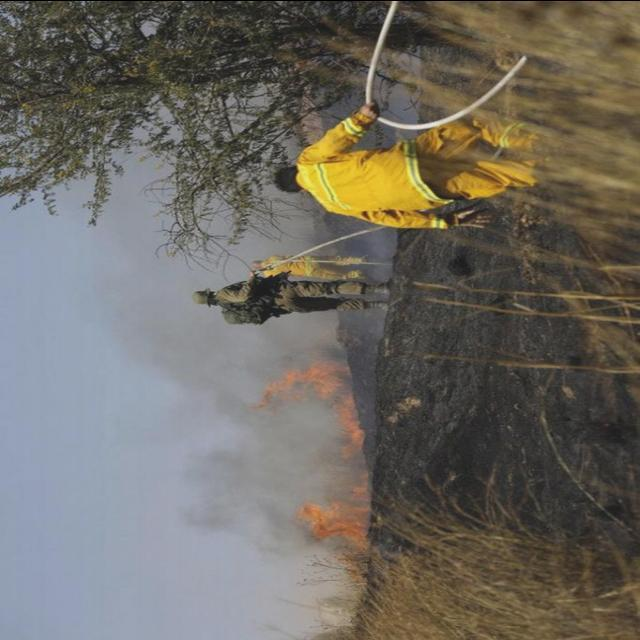Fire: (262, 356, 370, 451), (303, 474, 371, 568)
